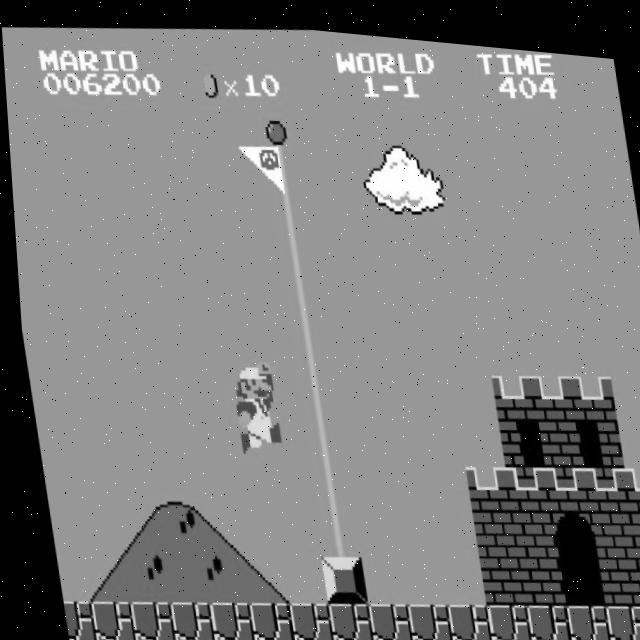1- brick_block: (590, 544, 638, 597)
17- undestructible_block: (557, 591, 604, 640), (398, 593, 446, 640), (438, 592, 485, 640), (478, 592, 525, 640), (518, 592, 565, 640), (359, 593, 406, 640), (279, 594, 327, 640), (319, 594, 367, 640), (160, 595, 208, 640), (200, 595, 248, 640), (240, 595, 287, 640), (81, 596, 129, 640), (597, 591, 640, 640), (121, 596, 168, 640), (54, 598, 89, 640), (563, 636, 608, 640), (637, 590, 640, 640), (603, 636, 640, 640), (484, 637, 528, 640), (524, 637, 568, 640), (404, 638, 449, 640), (444, 638, 489, 640), (285, 639, 330, 640), (325, 639, 370, 640), (365, 639, 410, 640)
4- fire_mario: (221, 351, 277, 452)
7- goal_pole: (293, 410, 341, 463), (255, 135, 303, 187), (274, 273, 322, 325), (287, 364, 335, 416), (306, 502, 354, 554), (249, 89, 296, 141), (281, 319, 328, 371), (300, 456, 347, 508), (262, 182, 309, 233), (268, 227, 315, 278)
9- hard_block: (313, 548, 360, 600)
